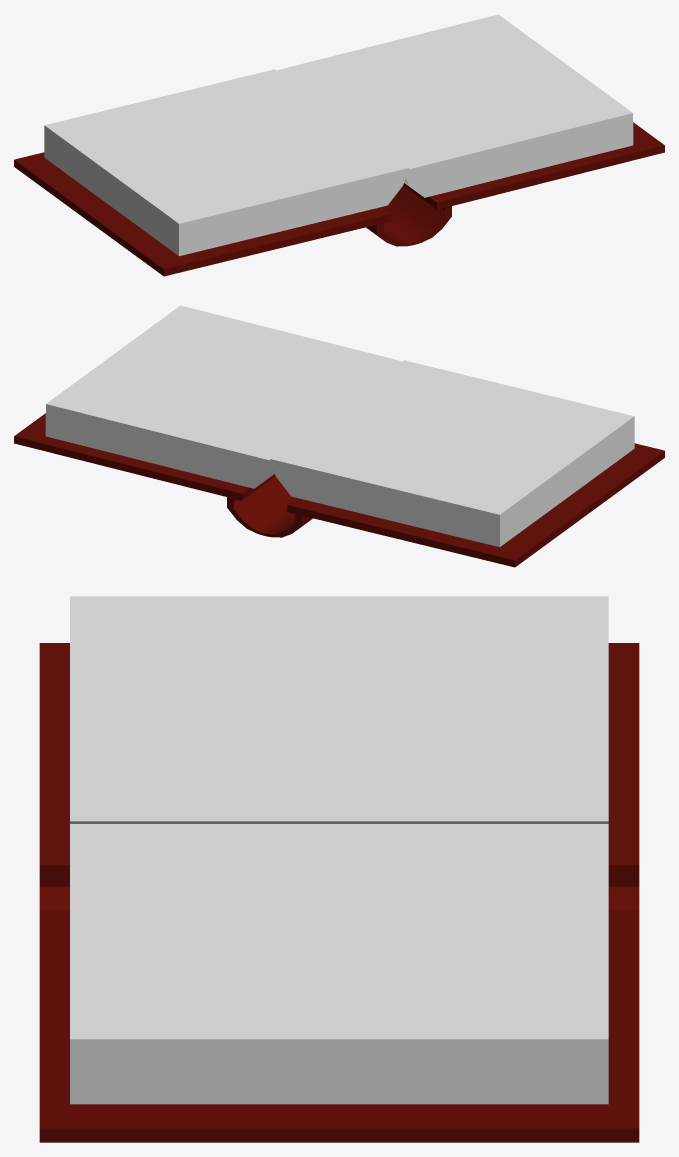
File: boxtemp.fbx
The picture shows the model from 3 angles, top to bottom: view 1: azimuth 30°, elevation 25°; view 2: azimuth 150°, elevation 25°; view 3: azimuth 270°, elevation 25°; orthographic projection. The views are drawn at different scales.
Visible parts, largest first — view 1: 立方体.002, 立方体, 立方体.004, 立方体.001, 立方体.003; view 2: 立方体.002, 立方体, 立方体.004, 立方体.001, 立方体.003; view 3: 立方体, 立方体.002, 立方体.001, 立方体.004, 立方体.003.
Part boxes in pixels (x1,y1,x2,y2): 立方体.002: (44, 69, 408, 256); 立方体: (276, 14, 633, 197); 立方体.004: (14, 152, 391, 276); 立方体.001: (403, 122, 664, 209); 立方体.003: (366, 185, 451, 246); 立方体.002: (270, 360, 634, 547); 立方体: (45, 305, 402, 488); 立方体.004: (287, 443, 664, 567); 立方体.001: (14, 413, 275, 500); 立方体.003: (227, 476, 312, 537); 立方体: (70, 824, 608, 1104); 立方体.002: (70, 596, 608, 823); 立方体.001: (39, 909, 639, 1142); 立方体.004: (39, 643, 639, 879); 立方体.003: (39, 879, 639, 909).
Bounding box in the file's own units: 2570 × 348 × 1333.
